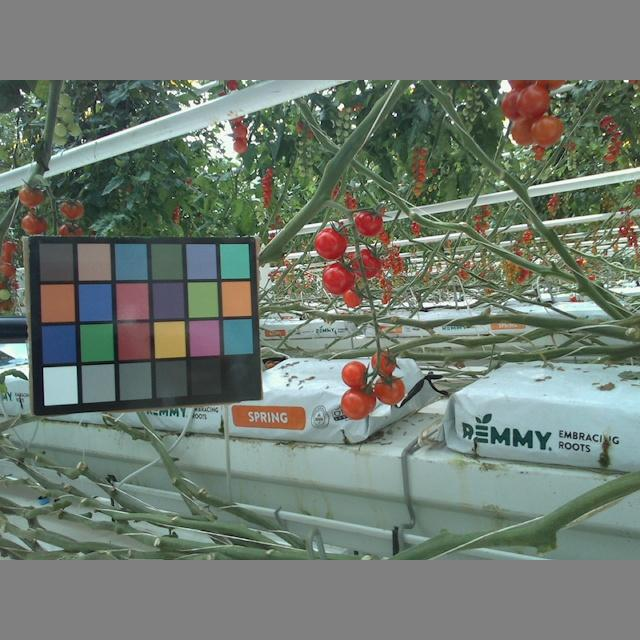pink: (511, 110, 541, 146), (531, 116, 564, 144), (17, 182, 45, 207), (21, 212, 49, 234), (60, 196, 85, 219)
red: (320, 261, 356, 295), (337, 386, 373, 419), (314, 227, 348, 261), (516, 85, 549, 119), (350, 246, 382, 278), (373, 375, 405, 405), (352, 211, 383, 235), (342, 359, 370, 385), (369, 349, 396, 375), (345, 287, 363, 306)
